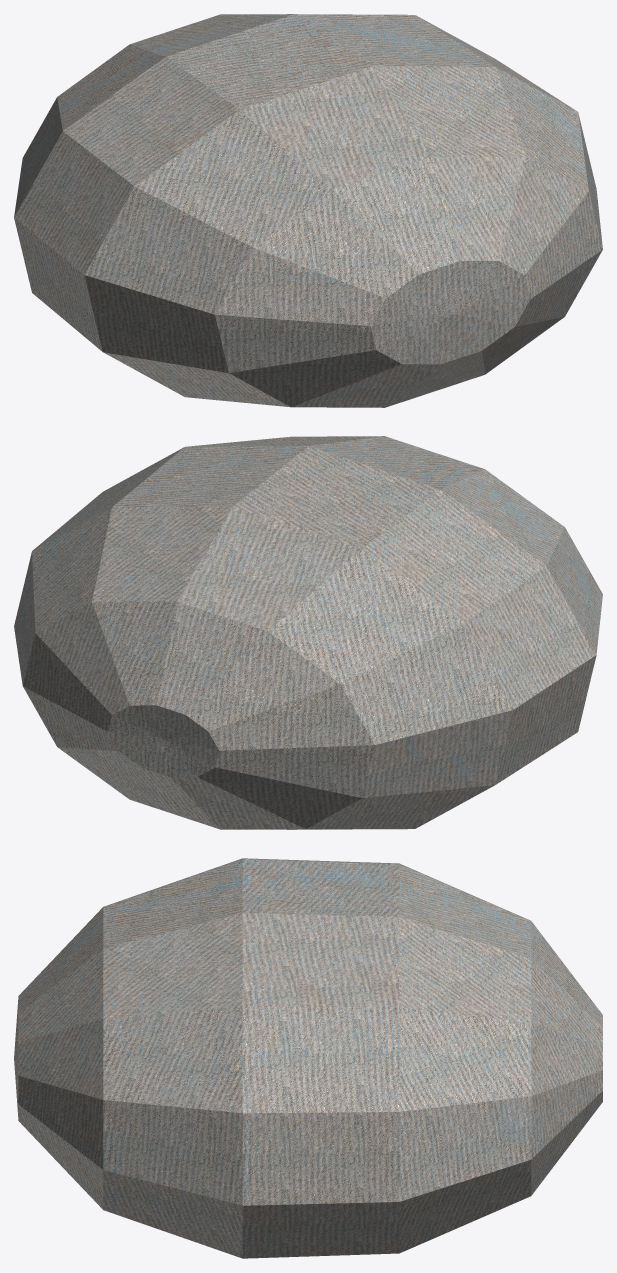
File: fa12d42e-1f61-45ad-a82c-c464cb41bbb7.dae
The picture shows the model from 3 angles, top to bottom: view 1: azimuth 30°, elevation 25°; view 2: azimuth 150°, elevation 25°; view 3: azimuth 270°, elevation 25°; orthographic projection.
Visible parts, largest first — view 1: SketchUp; view 2: SketchUp; view 3: SketchUp.
Part boxes in pixels (x1,y1,x2,y2): SketchUp: (14,14,602,407); SketchUp: (14,436,602,829); SketchUp: (14,858,602,1258).
Bounding box in the file's own units: 81.07 × 79.25 × 47.83.
Materials: 2 (1 with a texture image).
